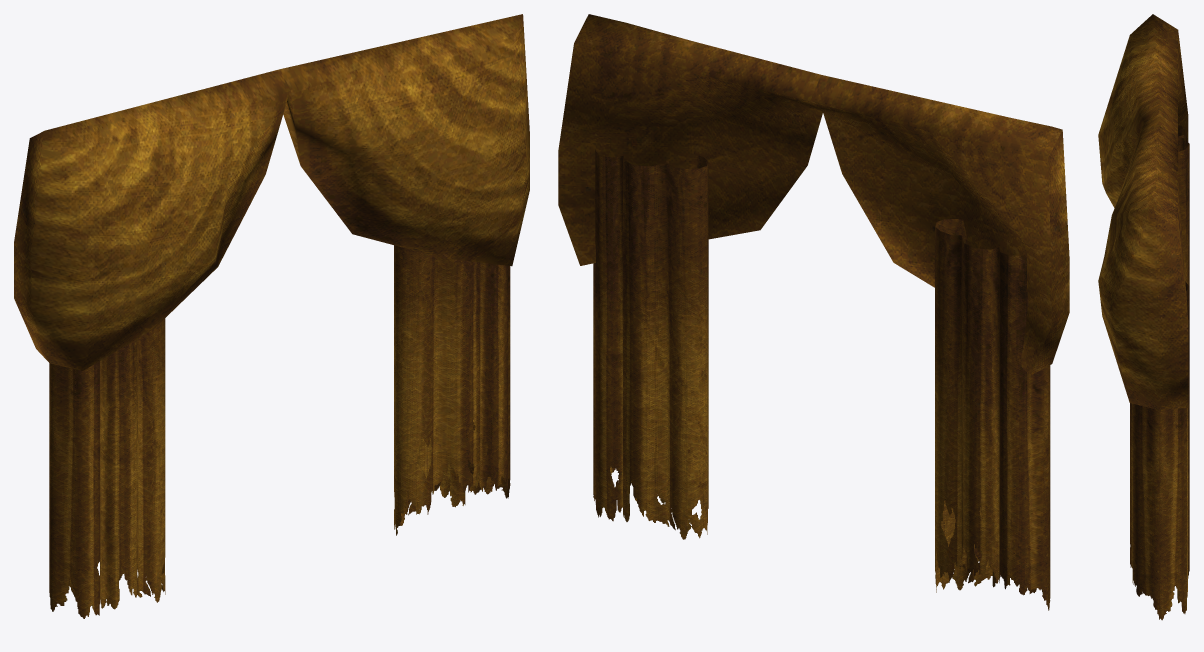
The model's file is curtain14_long_broken.dae.
3 renders of one model, left to right at view 1: azimuth 30°, elevation 25°; view 2: azimuth 150°, elevation 25°; view 3: azimuth 270°, elevation 25°, orthographic. The views are drawn at different scales.
Parts seen in each view (by area): view 1: polySurface191, polySurface193, polySurface192; view 2: polySurface191, polySurface193, polySurface192; view 3: polySurface191, polySurface193.
Part boxes in pixels (x1,y1,x2,y2): polySurface191: (14, 14, 529, 618); polySurface193: (49, 245, 509, 616); polySurface192: (68, 419, 494, 594); polySurface191: (558, 14, 1069, 610); polySurface193: (593, 150, 1050, 607); polySurface192: (610, 466, 1030, 593); polySurface191: (1098, 14, 1189, 619); polySurface193: (1130, 126, 1189, 619).
Size of what is drawn, in the model's own units: 2.5 by 2.42 by 0.4673.
